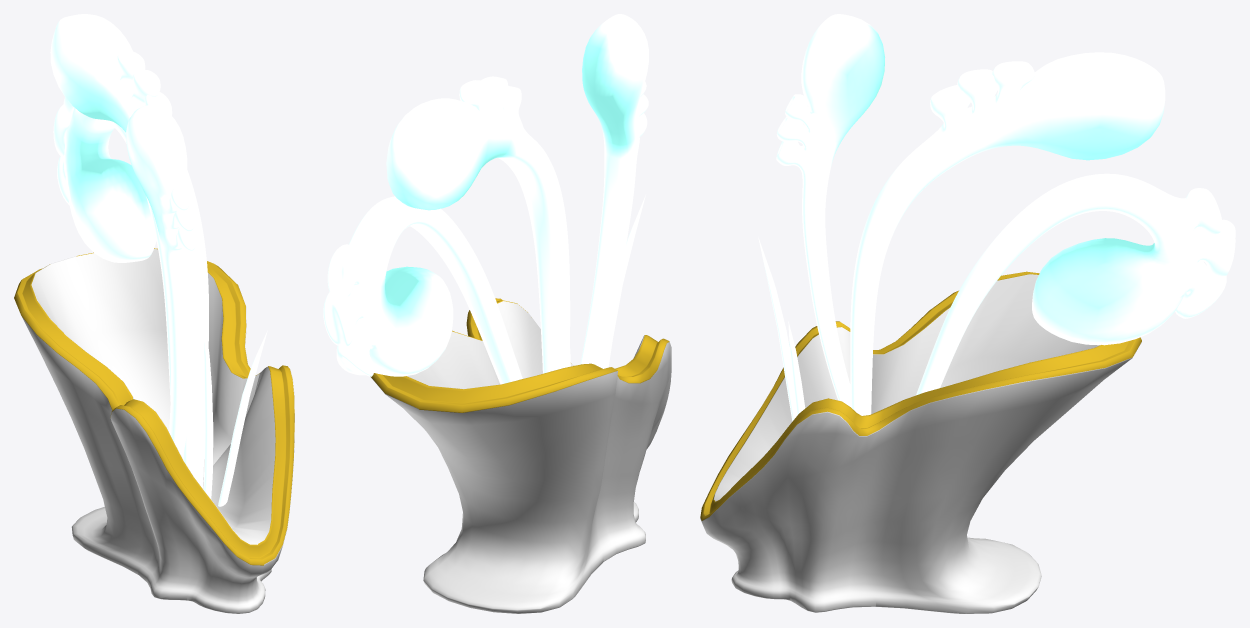
Rendered from Shellosa.fbx.
The picture shows the model from 3 angles, left to right: view 1: azimuth 30°, elevation 25°; view 2: azimuth 150°, elevation 25°; view 3: azimuth 270°, elevation 25°; orthographic projection. The views are drawn at different scales.
Parts seen in each view (by area): view 1: toiletLOD0; view 2: toiletLOD0; view 3: toiletLOD0.
Part boxes in pixels (<box>): toiletLOD0: <box>14,14,294,613</box>; toiletLOD0: <box>323,14,671,613</box>; toiletLOD0: <box>700,14,1235,613</box>.
Size of what is drawn, in the model's own units: 113 by 258 by 231.
